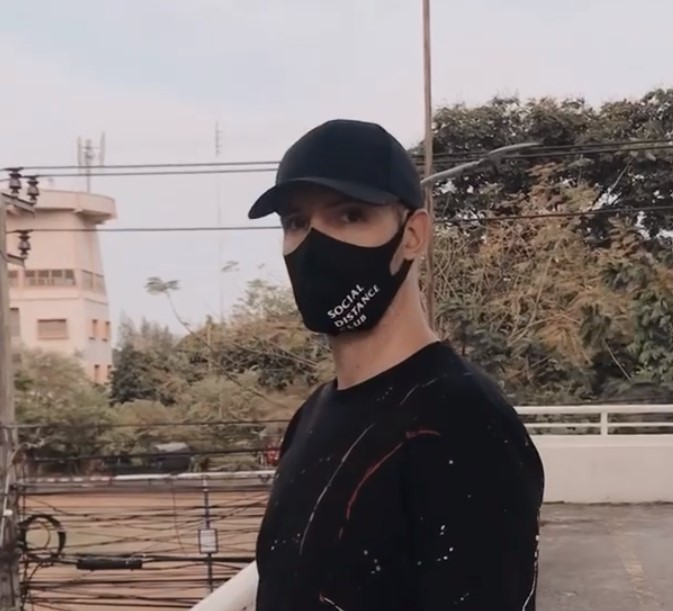face_with_mask: (248, 122, 436, 343)
